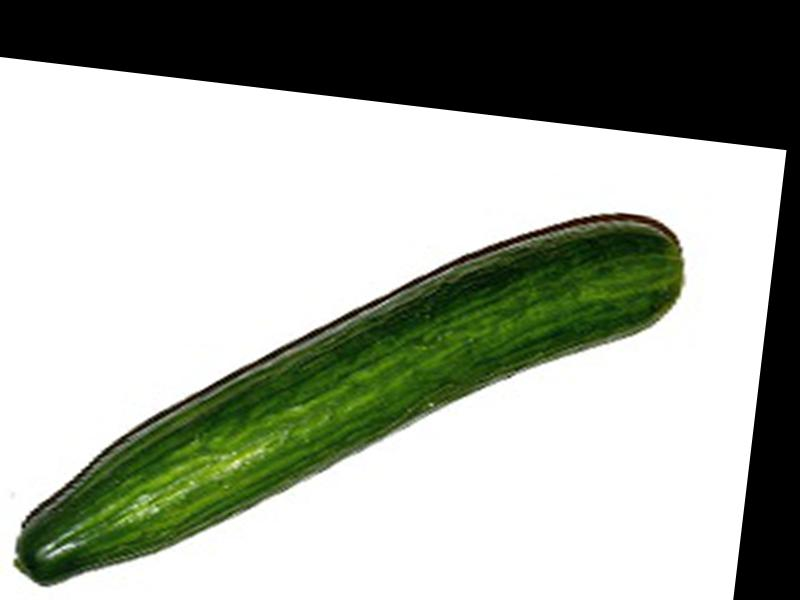Cucumber: (11, 149, 689, 600)
